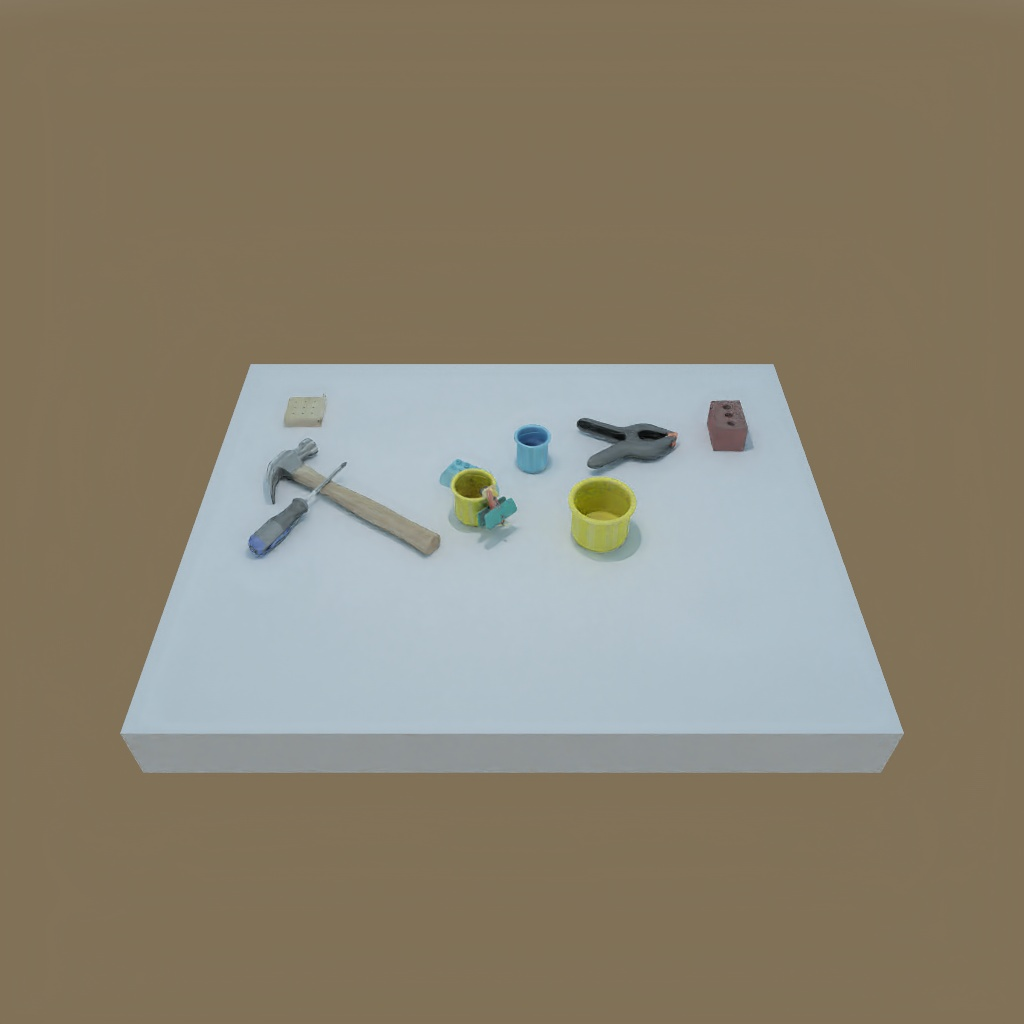hammer: (266, 440, 439, 556)
nine_hole_peg_test: (280, 389, 333, 426)
